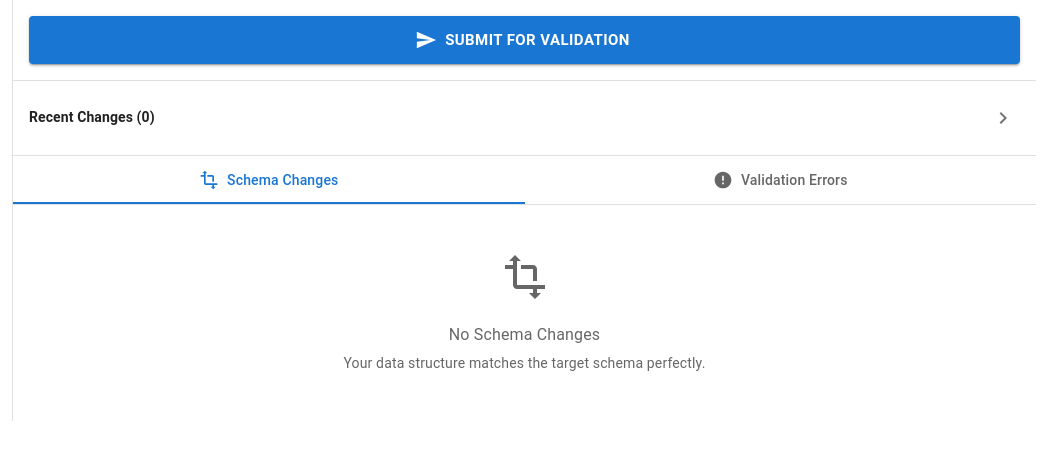
Test: ValidationSidebarComponent › shows "No changes made yet" when no changes
Note: Recent Changes is collapsed by default, need to expand it
Step 1. Click the button named "Expand Recent Changes section" → click(85, 117), box 25,97 -> 1024,139
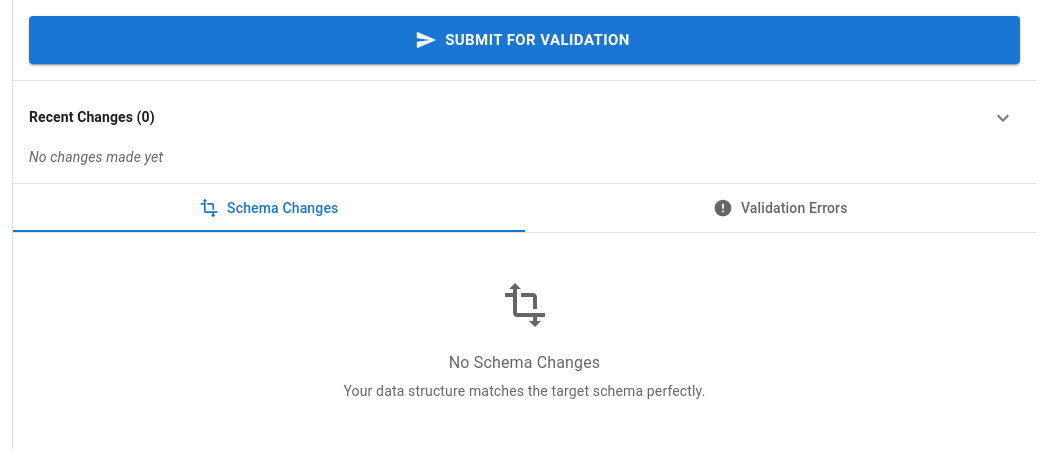
Expected: the text "No changes made yet" is shown, 29,149 -> 163,165
